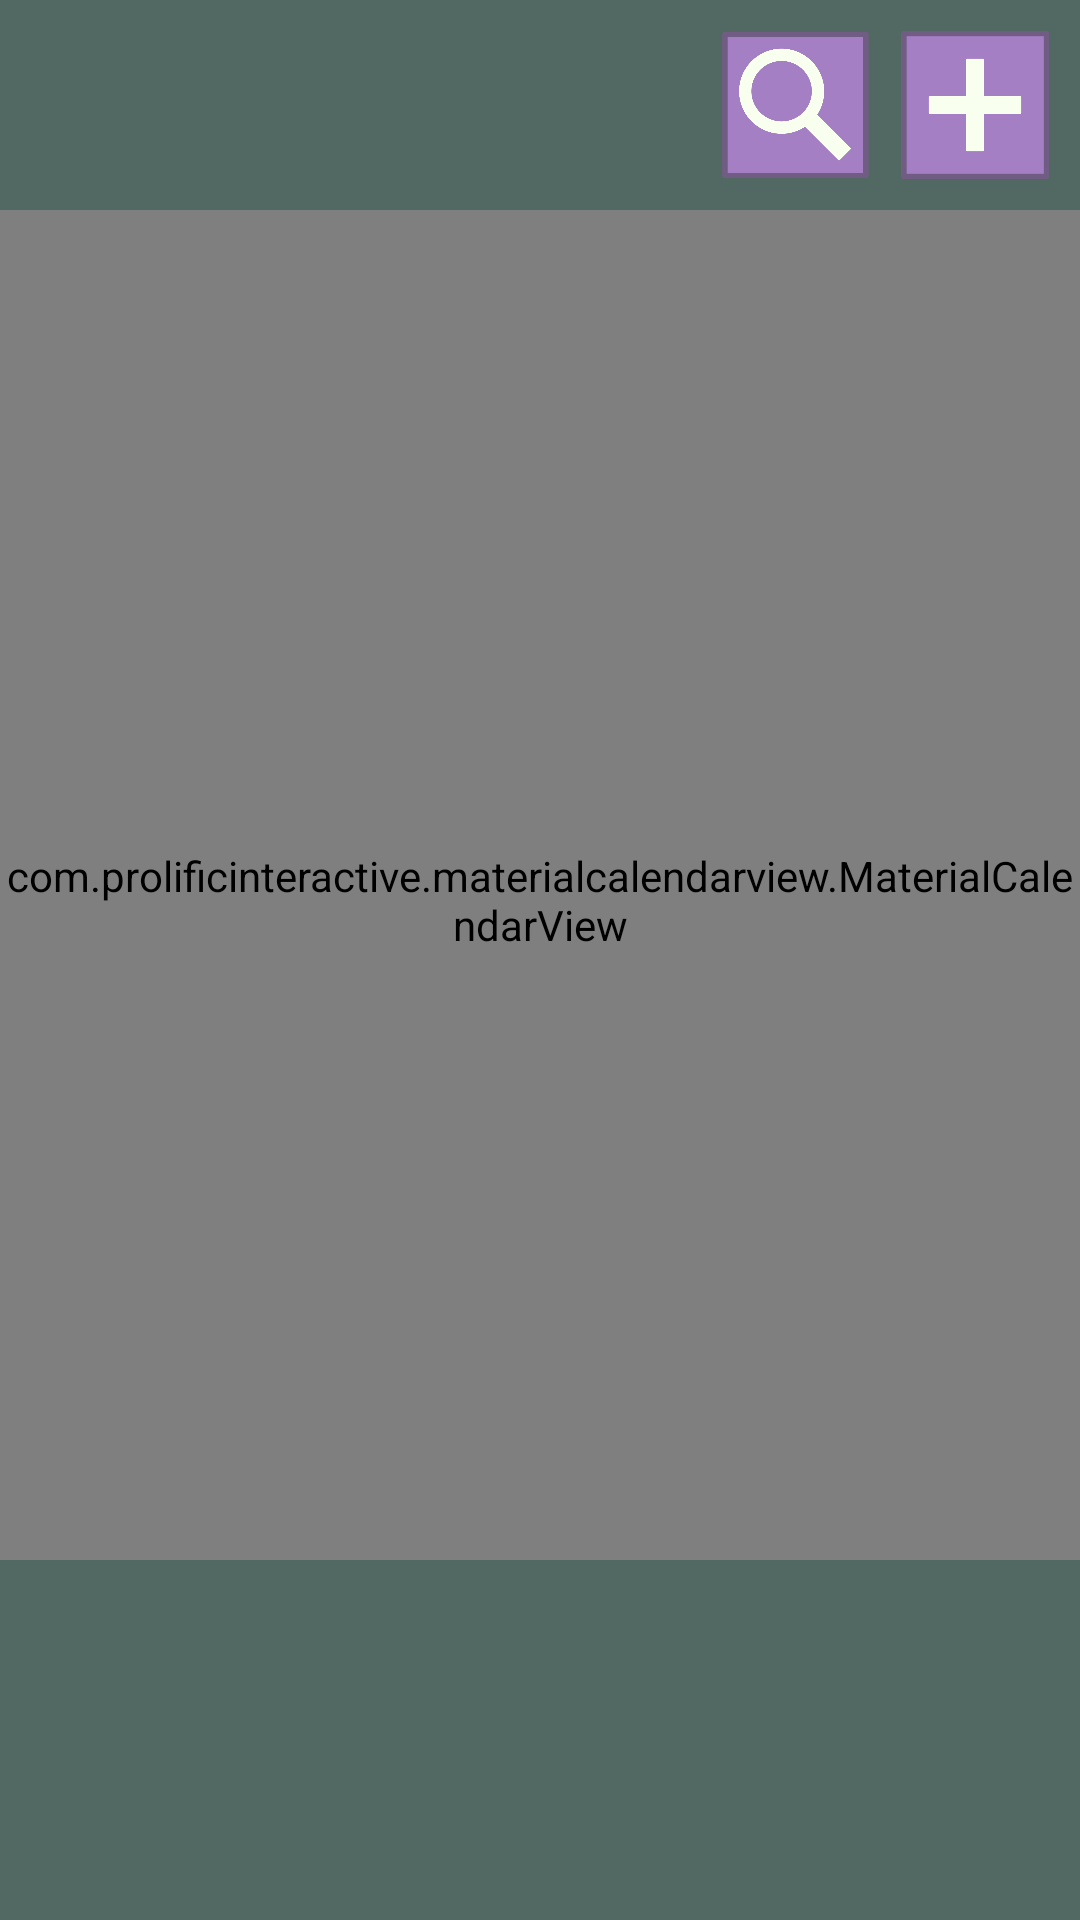

Named icons in this screenshot (1080 × 1920) and their centers, (x,y):
high res add: (975,105)
search: (795,105)
